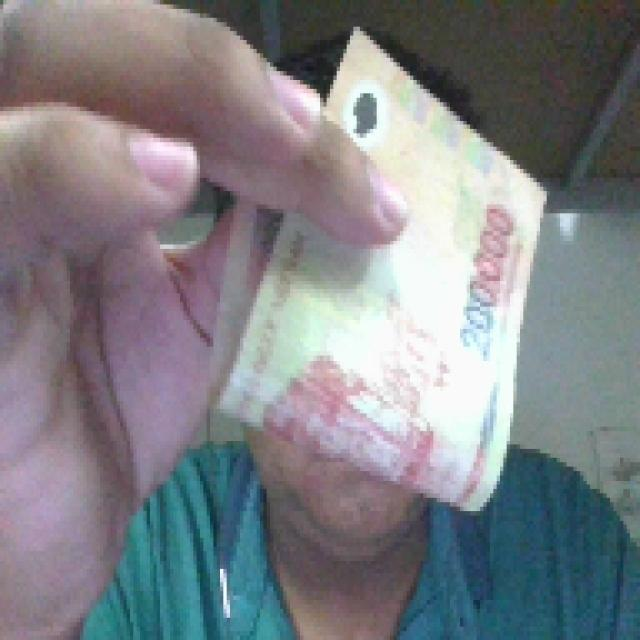200 000 VND: (207, 22, 550, 516)
